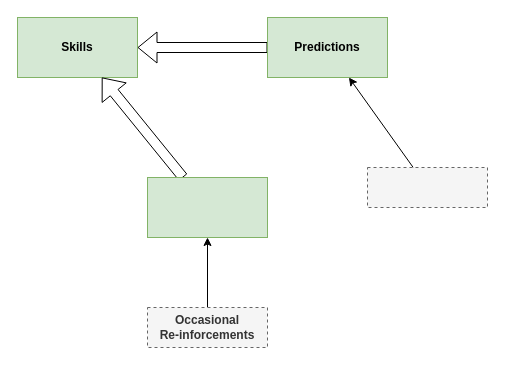
Image size: 505x365. Some labels were removed from this diagram. Here are the shapes that lost their labels. From the top down, the centre of each, then its label:
At (x=207, y=207): "Rewards".
At (x=427, y=187): "Unsupervised Learning".
